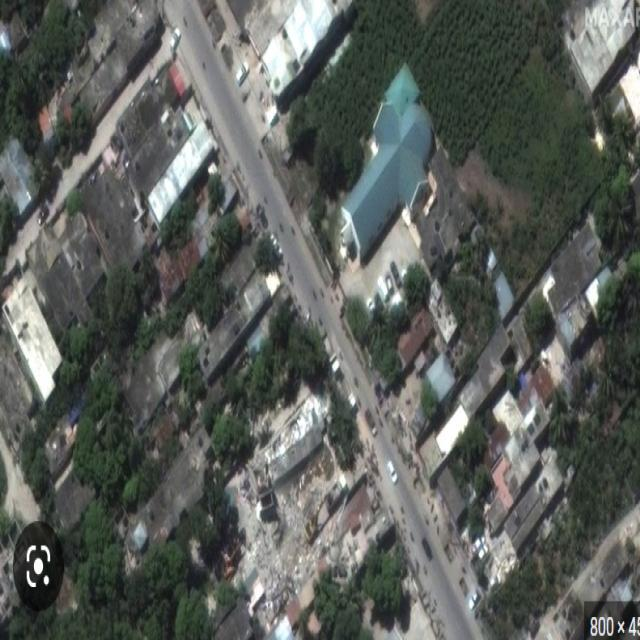Rubble: (243, 539, 286, 617), (287, 501, 317, 575), (228, 475, 256, 525)
